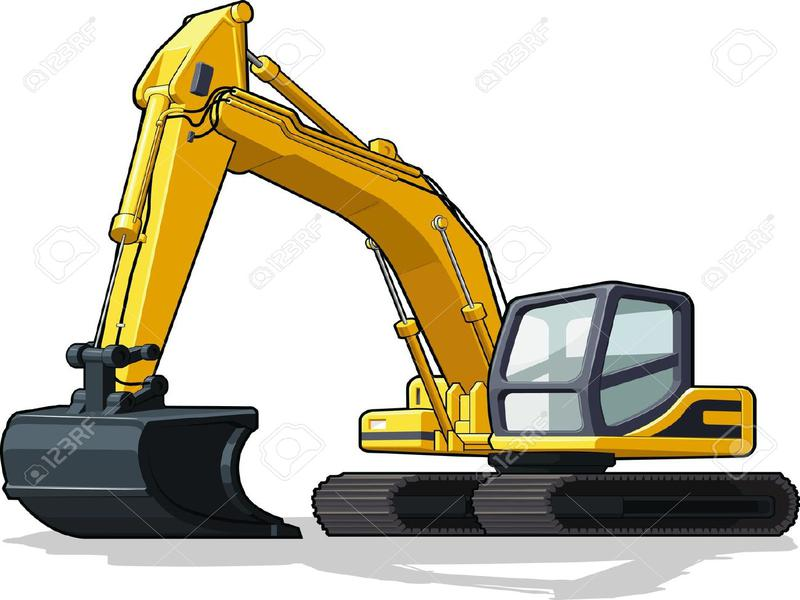shovel: (3, 3, 798, 552)
